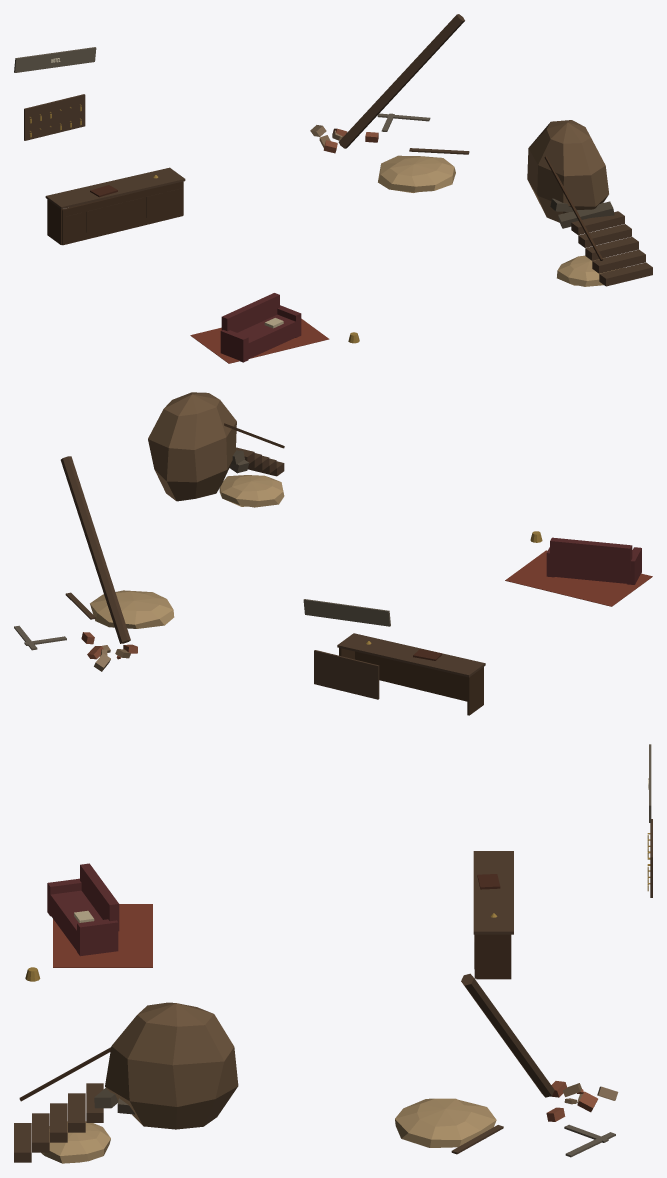
The model's file is TownRoom_hotel.glb.
The picture shows the model from 3 angles, top to bottom: view 1: azimuth 30°, elevation 25°; view 2: azimuth 150°, elevation 25°; view 3: azimuth 270°, elevation 25°; orthographic projection. The views are drawn at different scales.
Visible parts, largest first — view 1: TownRoom_hotel.001; view 2: TownRoom_hotel.001; view 3: TownRoom_hotel.001.
Part boxes in pixels (x1,y1,x2,y2): TownRoom_hotel.001: [14, 14, 652, 363]; TownRoom_hotel.001: [14, 392, 652, 715]; TownRoom_hotel.001: [14, 744, 652, 1163].
Bounding box in the file's own units: 12.65 × 4.26 × 12.75.
